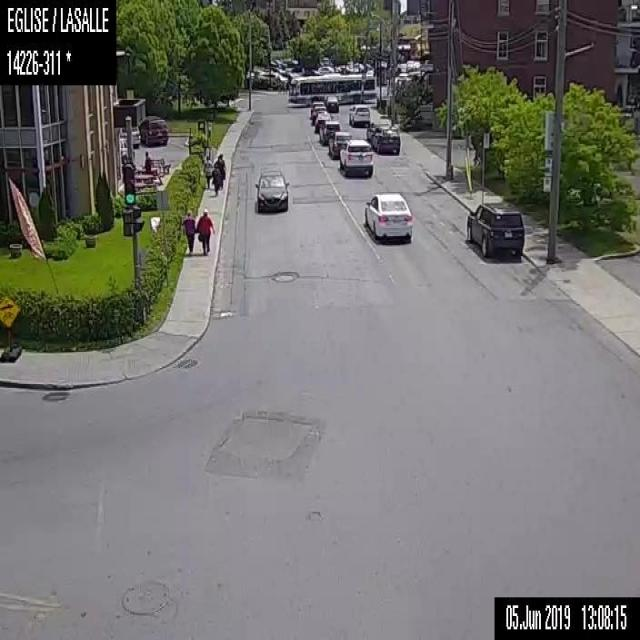bus: (287, 70, 378, 106)
pedestrian: (194, 208, 214, 257), (181, 209, 195, 255), (213, 152, 224, 187), (201, 153, 212, 187), (210, 166, 220, 197), (144, 150, 150, 173)
vehicle: (464, 197, 524, 259), (361, 189, 413, 243), (254, 167, 291, 213), (340, 137, 373, 177), (141, 114, 168, 148), (372, 125, 400, 155), (328, 130, 350, 158), (318, 119, 340, 144), (349, 104, 370, 127), (314, 112, 331, 133), (311, 105, 326, 124), (325, 94, 338, 113), (310, 100, 324, 116)
